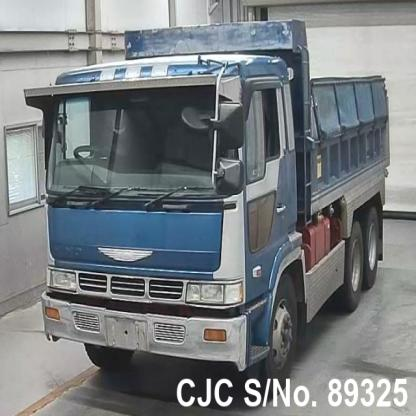dump_truck: (27, 18, 408, 390)
